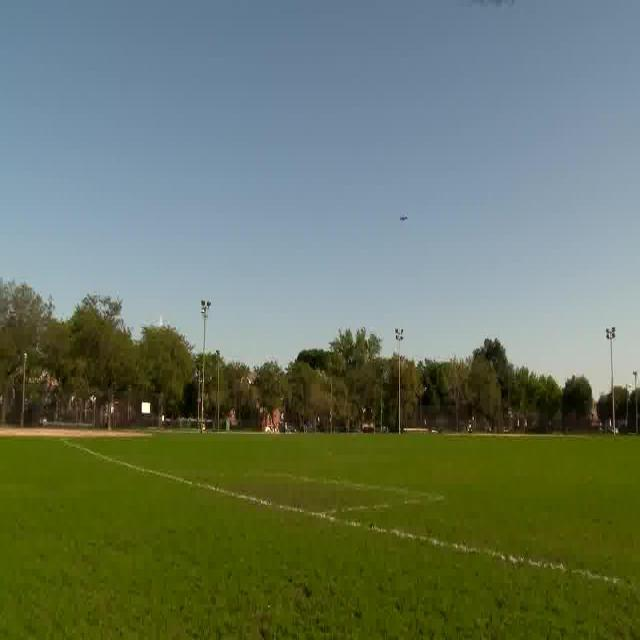drone: (393, 206, 413, 222)
